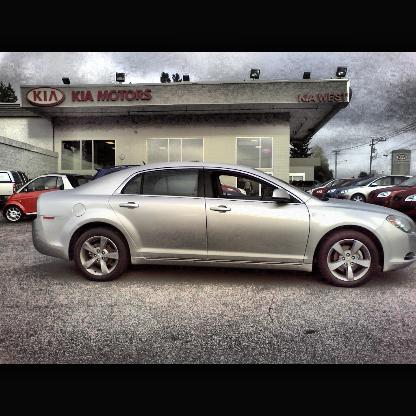Chevrolet Malibu Hybrid Sedan 2010: (35, 161, 415, 288)
